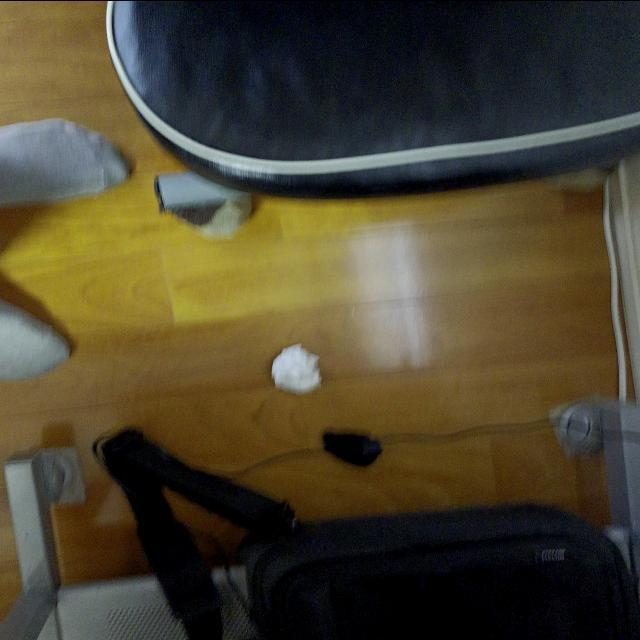Paper: (264, 337, 318, 388)
